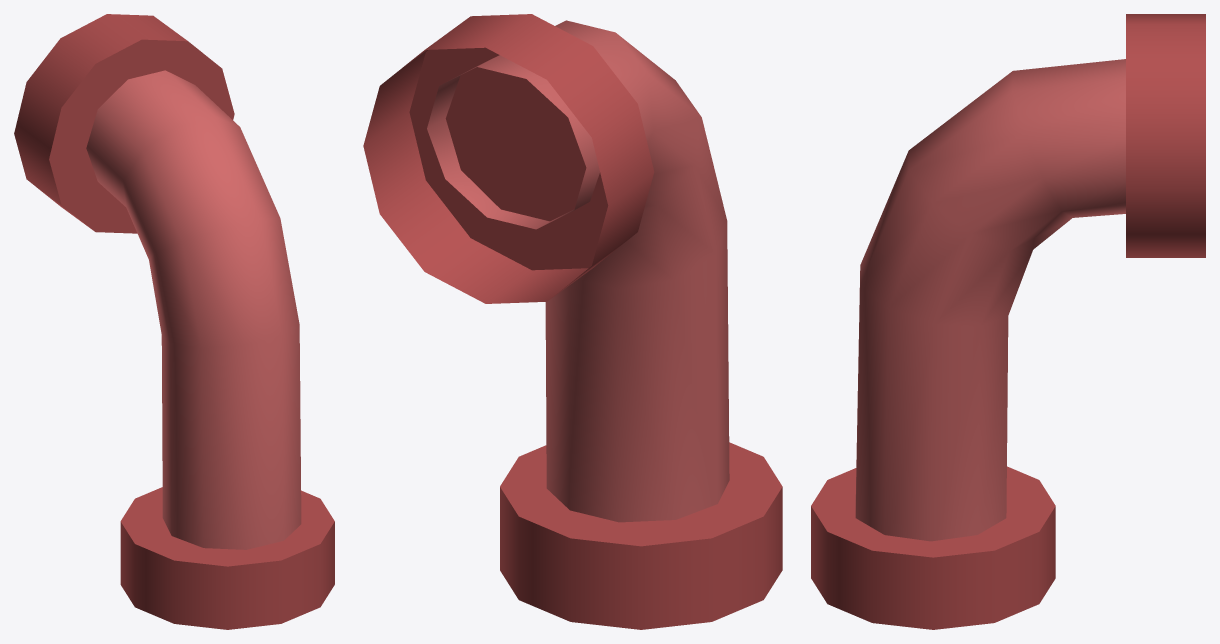
Rendered from Pipa2.dae.
3 views of the same model, side by side, from view 1: azimuth 30°, elevation 25°; view 2: azimuth 150°, elevation 25°; view 3: azimuth 270°, elevation 25° (orthographic). The views are drawn at different scales.
Visible parts, largest first — view 1: Cylinder.006; view 2: Cylinder.006; view 3: Cylinder.006.
Boxes of the visible parts, x1=… form: Cylinder.006: x1=14, y1=14, x2=334, y2=629; Cylinder.006: x1=363, y1=14, x2=782, y2=629; Cylinder.006: x1=811, y1=14, x2=1205, y2=629.
Size of the model in its own units: 0.2406 by 0.3852 by 0.5944.
